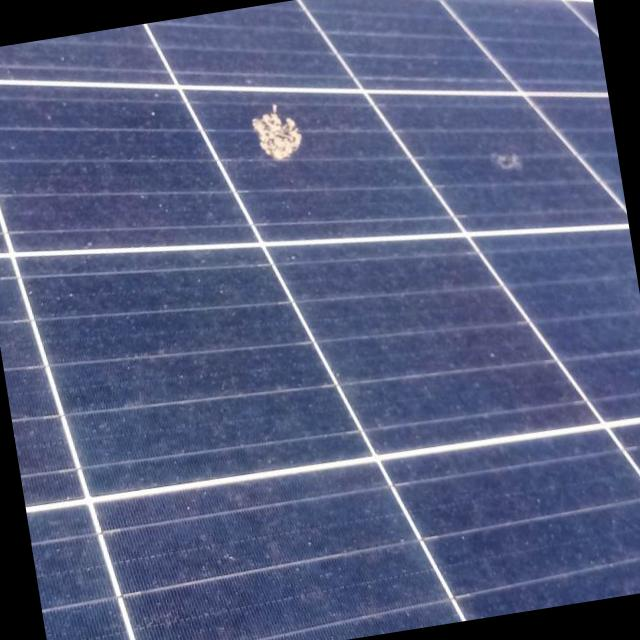faulty: (0, 0, 640, 640), (221, 64, 339, 202), (468, 117, 533, 184)
